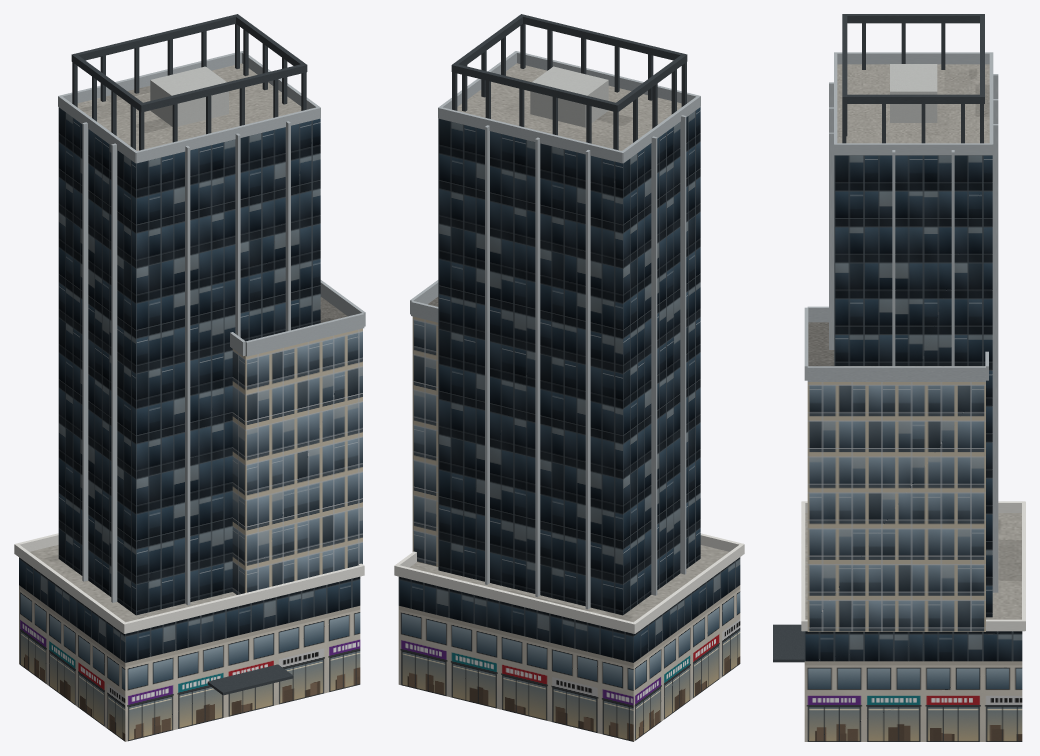
Rendered from OW_CaoOc_VP_KhoiLech_64.fbx.
3 views of the same model, side by side, from view 1: azimuth 30°, elevation 25°; view 2: azimuth 150°, elevation 25°; view 3: azimuth 270°, elevation 25° (orthographic). The views are drawn at different scales.
Visible parts, largest first — view 1: OW_CaoOc_VP_KhoiLech_64_LOD0; view 2: OW_CaoOc_VP_KhoiLech_64_LOD0; view 3: OW_CaoOc_VP_KhoiLech_64_LOD0.
Boxes of the visible parts, <box> form: OW_CaoOc_VP_KhoiLech_64_LOD0: <box>14,14,365,741</box>; OW_CaoOc_VP_KhoiLech_64_LOD0: <box>394,14,744,741</box>; OW_CaoOc_VP_KhoiLech_64_LOD0: <box>773,14,1025,741</box>.
Size of what is drawn, in the model's own units: 29.15 by 70 by 25.55.
